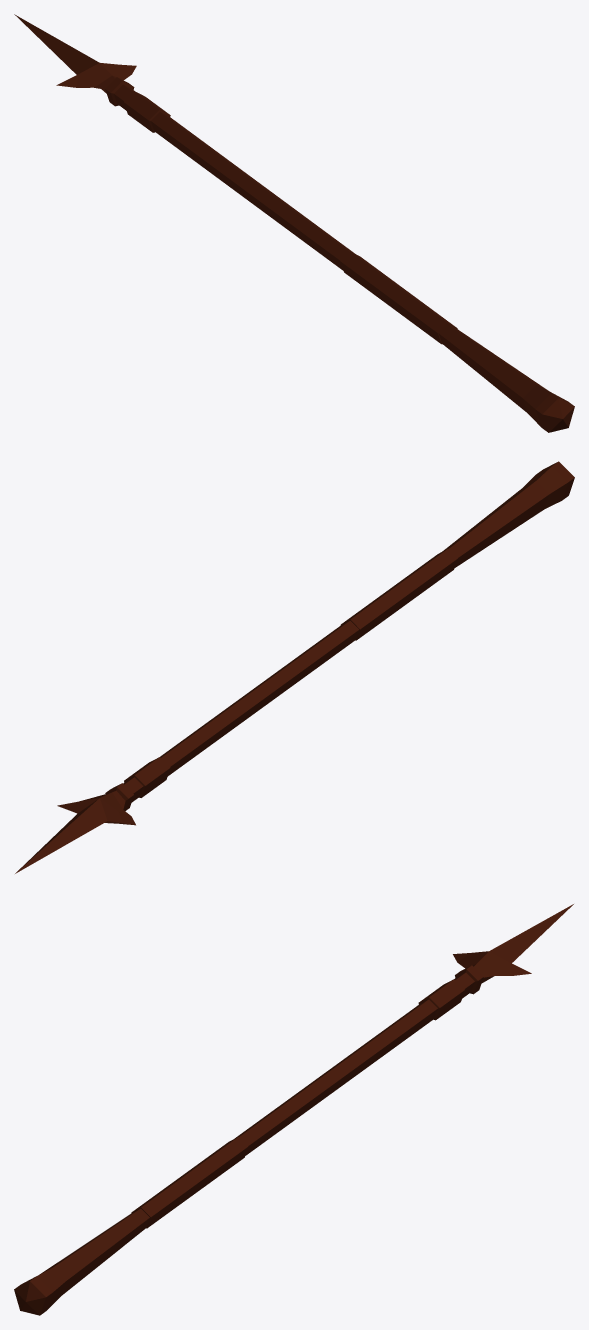
Rendered from Flared_Spear.glb.
3 renders of one model, top to bottom at view 1: azimuth 30°, elevation 25°; view 2: azimuth 150°, elevation 25°; view 3: azimuth 330°, elevation 25°, orthographic.
Visible parts, largest first — view 1: Flared_Spear; view 2: Flared_Spear; view 3: Flared_Spear.
Part boxes in pixels (<box>): Flared_Spear: <box>14,14,574,432</box>; Flared_Spear: <box>15,461,574,873</box>; Flared_Spear: <box>14,904,573,1315</box>.
Size of the model in its own units: 20.78 by 7.96 by 246.
